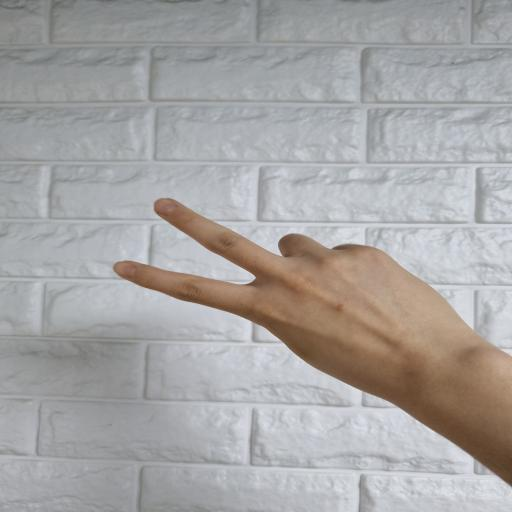Scissors: (113, 198, 512, 487)
